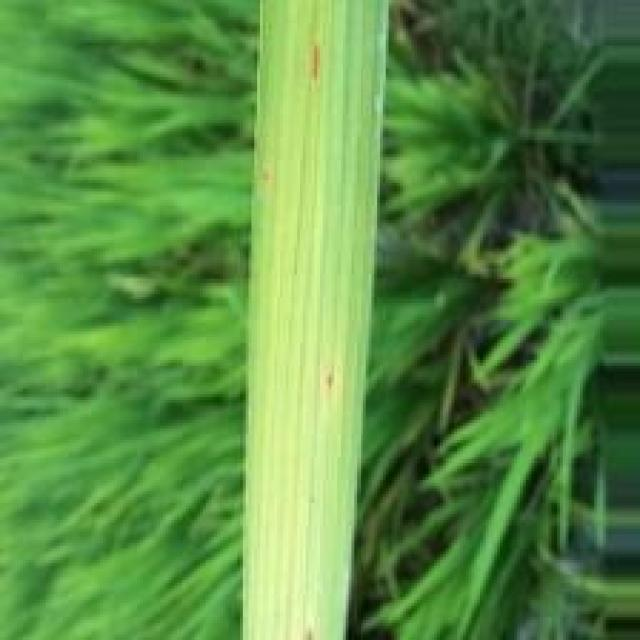Brown_Spot: (309, 41, 323, 83), (322, 372, 340, 394)
